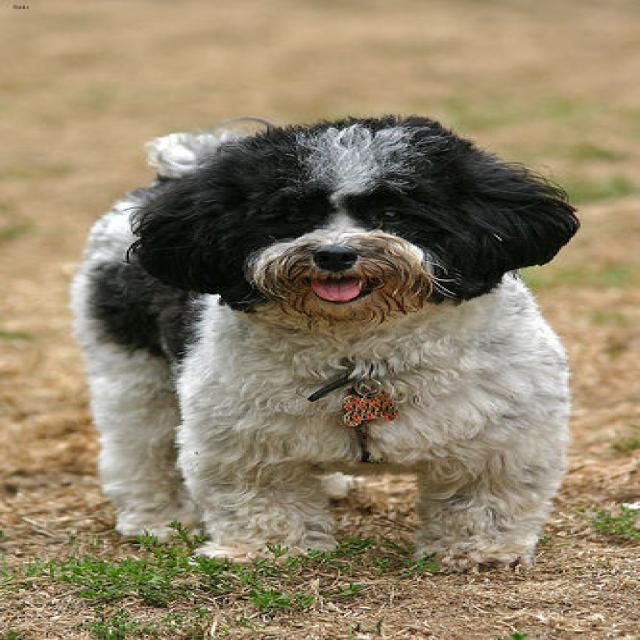dog-havanese: (54, 96, 596, 585)
